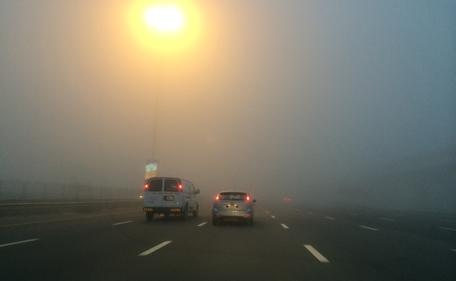car: (141, 176, 202, 220), (212, 191, 257, 225)
